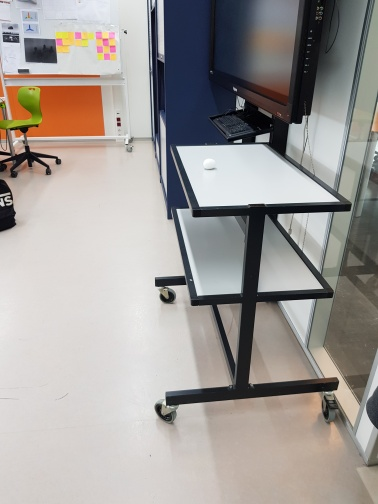egg: (201, 157, 218, 170)
